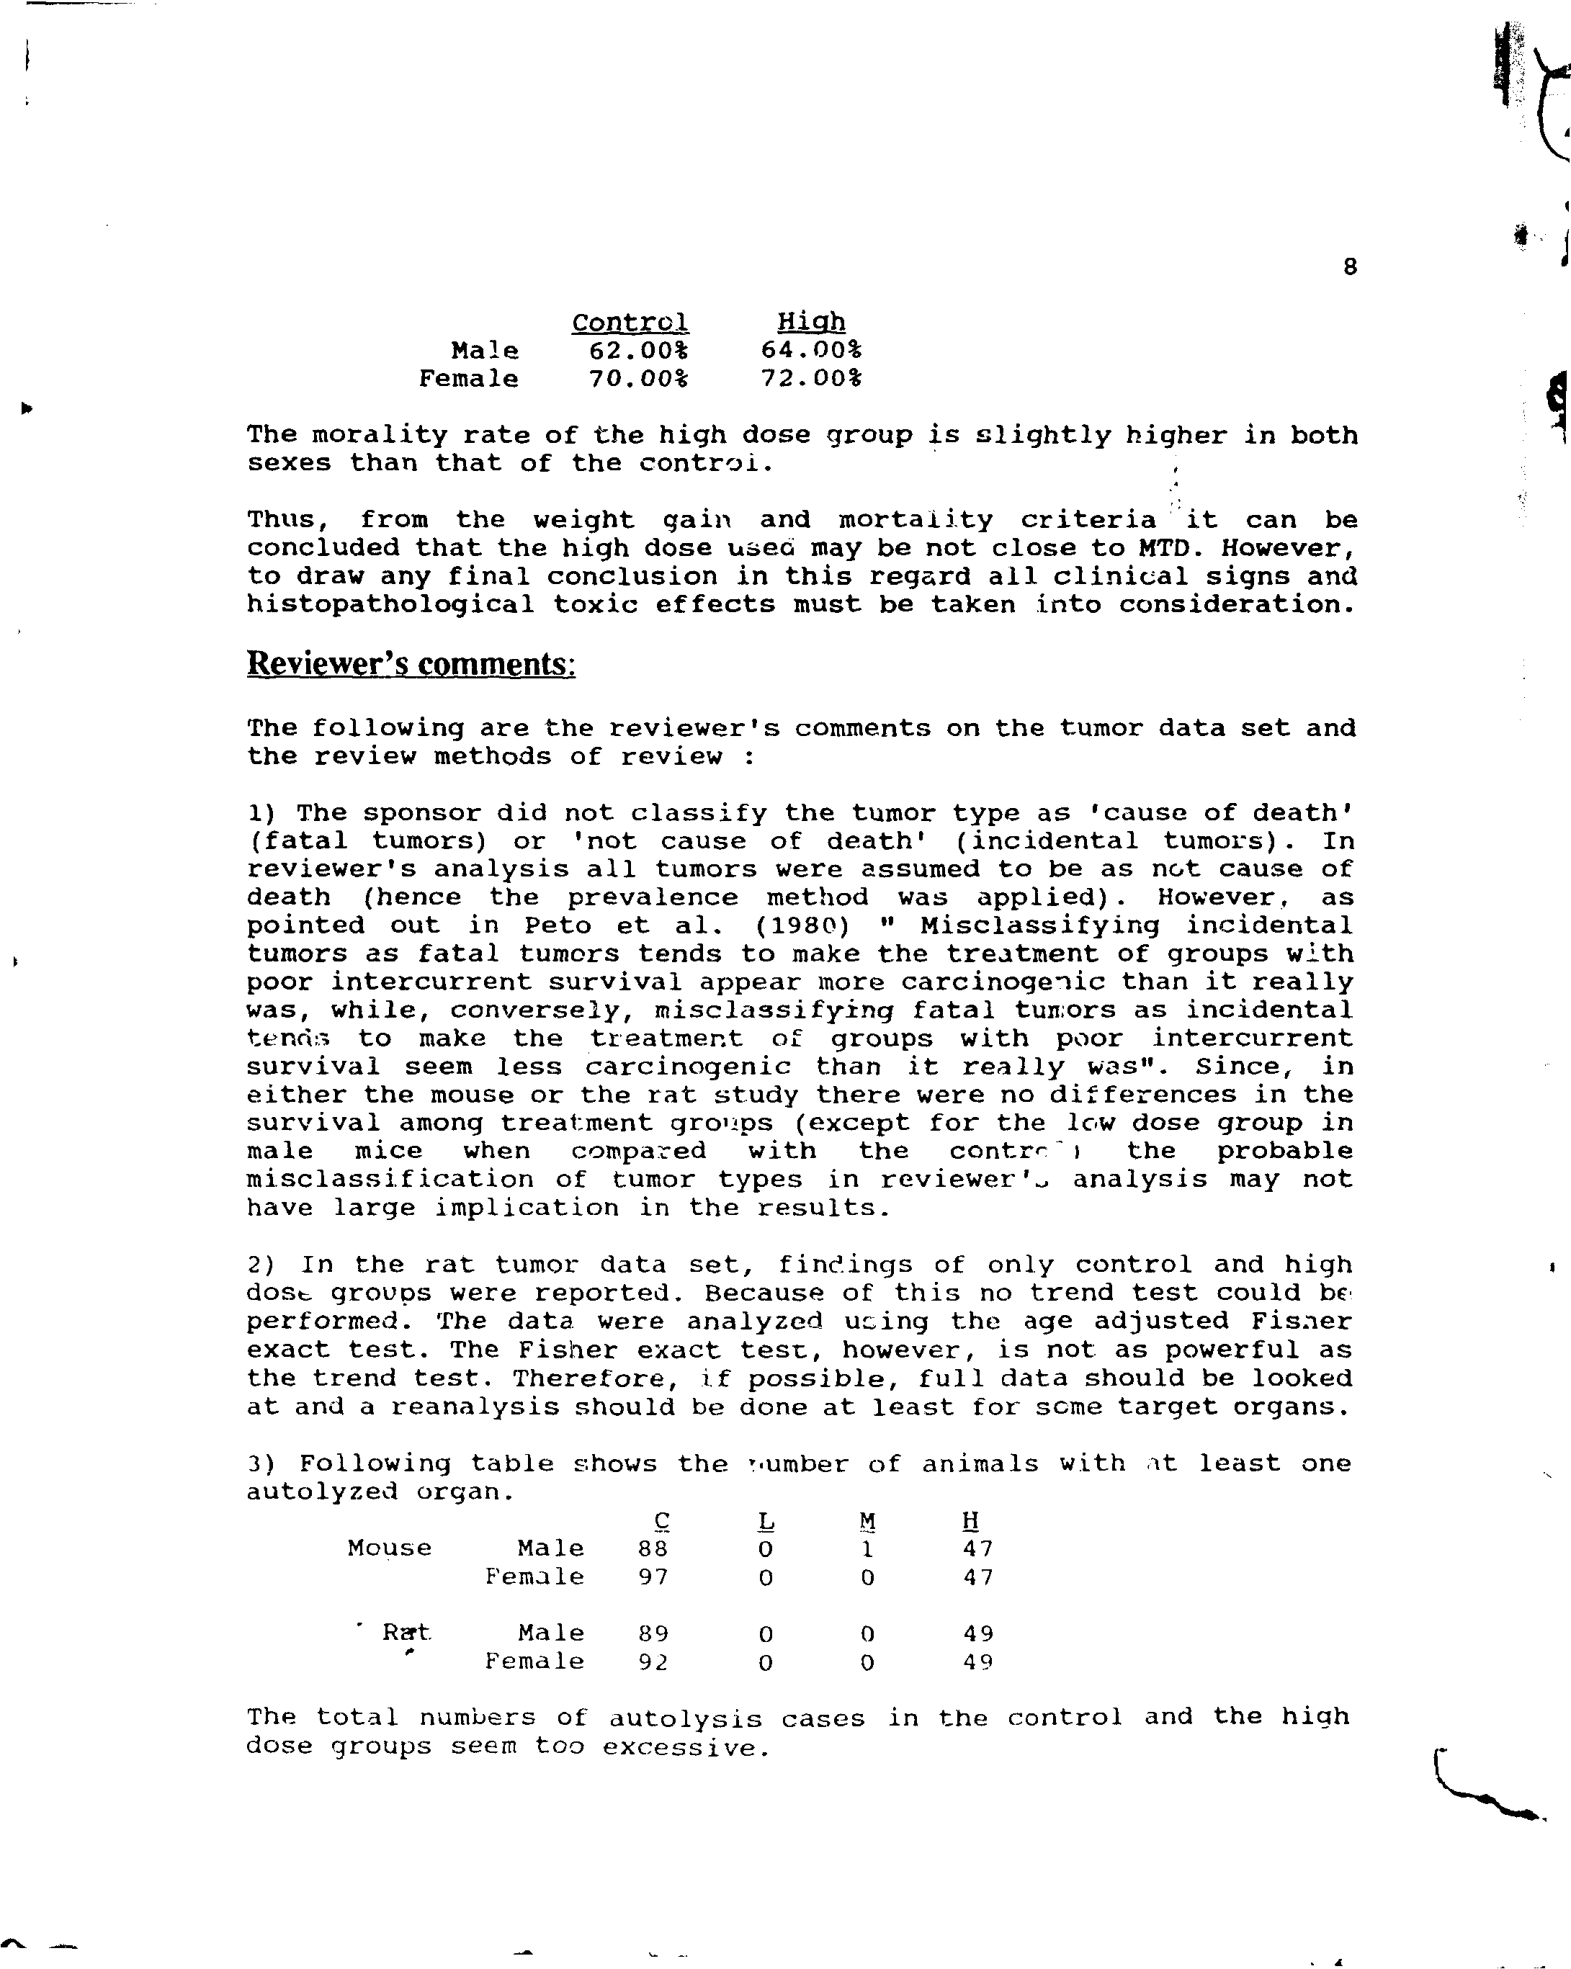nolines: (345, 1512, 997, 1676), (418, 300, 869, 386)
